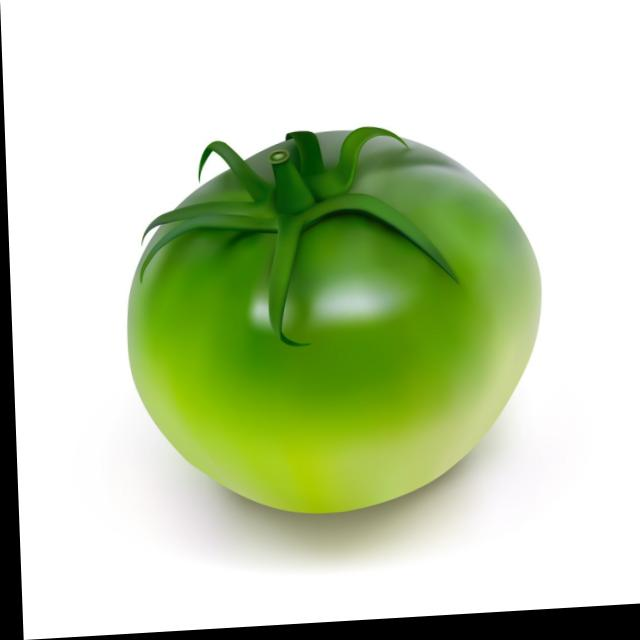yesil: (90, 101, 550, 534)
